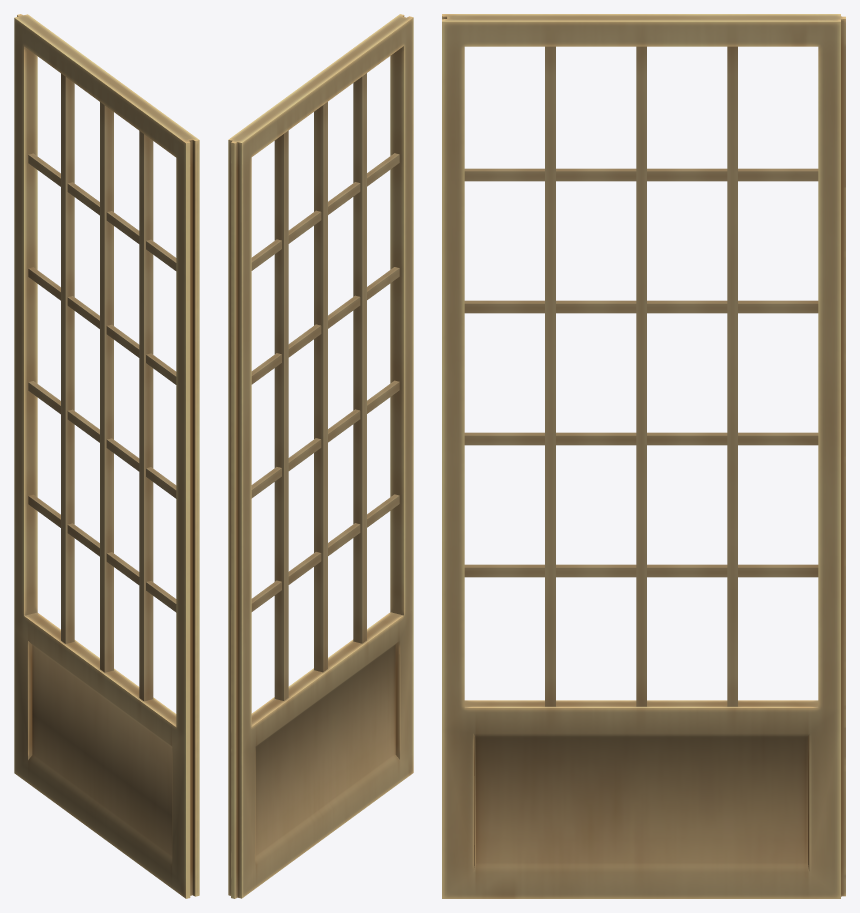
The model's file is mypeng_door02.fbx.
3 views of the same model, side by side, from view 1: azimuth 30°, elevation 25°; view 2: azimuth 150°, elevation 25°; view 3: azimuth 270°, elevation 25° (orthographic). The views are drawn at different scales.
Visible parts, largest first — view 1: mypeng_door02; view 2: mypeng_door02; view 3: mypeng_door02.
Part boxes in pixels (x1=…): mypeng_door02: x1=14, y1=14, x2=199, y2=898; mypeng_door02: x1=228, y1=14, x2=413, y2=898; mypeng_door02: x1=442, y1=14, x2=845, y2=898.
Size of the model in its own units: 4.16 by 220 by 91.97.
1 material, 1 textured.
